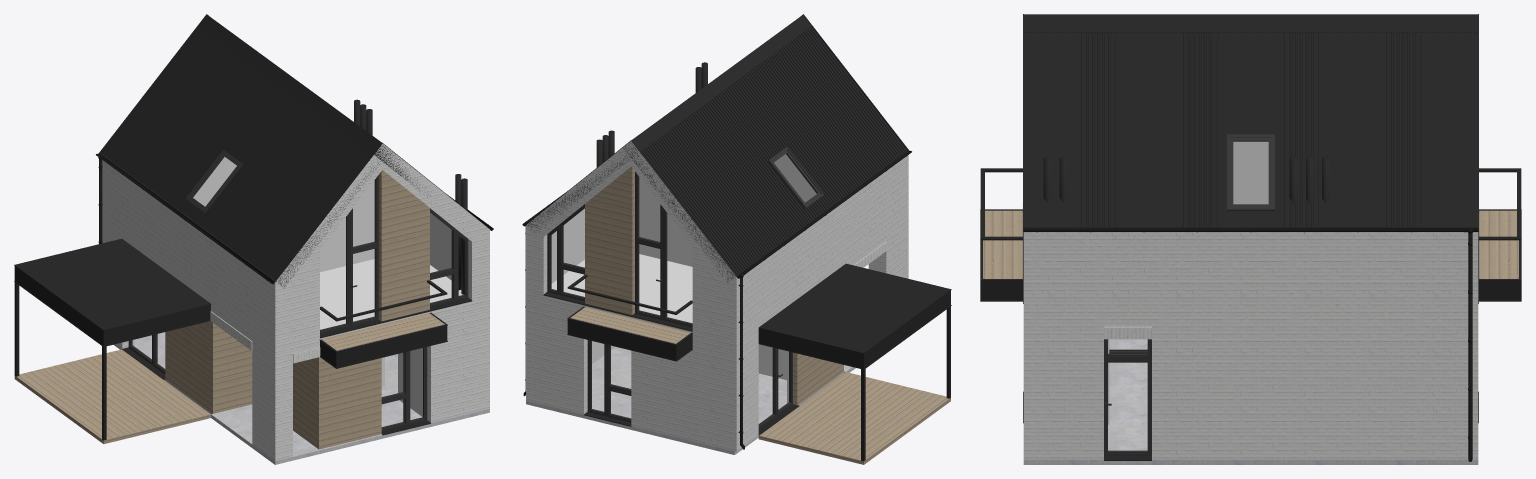
File: mats.glb
3 renders of one model, left to right at view 1: azimuth 30°, elevation 25°; view 2: azimuth 150°, elevation 25°; view 3: azimuth 270°, elevation 25°, orthographic. The views are drawn at different scales.
Parts seen in each view (by area): view 1: G-__556320, G-Difference, G-__555672, G-__555717, G-__555564, G-__556023, G-__556410, G-__555681, G-__555699, G-__556293, G-__555591, G-__555735 (+11 smaller); view 2: G-__556320, G-Difference, G-__555672, G-__555717, G-__555564, G-__556023, G-__556365, G-__555699, G-__556293, G-__555591, G-__555681, G-OuterShell.010 (+13 smaller); view 3: G-__556293, G-Difference, G-__555672, G-__556023, G-__556320, G-__556365, G-__556410, G-OuterShell.010, G-__555735, G-__555906, G-__556608, G-__556302 (+7 smaller).
Part boxes in pixels (x1,y1,x2,y2): G-__556320: [100, 26, 380, 286]; G-Difference: [102, 143, 489, 367]; G-__555672: [102, 241, 489, 449]; G-__555717: [14, 238, 211, 346]; G-__555564: [14, 349, 210, 443]; G-__556023: [113, 332, 489, 464]; G-__556410: [320, 312, 447, 367]; G-__555681: [252, 351, 292, 461]; G-__555699: [320, 259, 463, 329]; G-__556293: [198, 18, 430, 196]; G-__555591: [200, 162, 374, 272]; G-__555735: [354, 99, 467, 294]; G-__556320: [623, 19, 907, 282]; G-Difference: [526, 141, 908, 359]; G-__555672: [526, 309, 843, 451]; G-__555717: [758, 263, 951, 369]; G-__555564: [758, 372, 950, 464]; G-__556023: [526, 347, 855, 454]; G-__556365: [567, 306, 692, 360]; G-__555699: [551, 254, 692, 323]; G-__556293: [526, 18, 811, 232]; G-__555591: [639, 159, 809, 266]; G-__555681: [868, 234, 908, 278]; G-OuterShell.010: [632, 15, 805, 143]; G-__556293: [1024, 19, 1477, 227]; G-Difference: [1023, 154, 1478, 338]; G-__555672: [1023, 339, 1478, 459]; G-__556023: [1023, 339, 1478, 464]; G-__556320: [1024, 19, 1477, 32]; G-__556365: [1479, 209, 1521, 300]; G-__556410: [980, 209, 1022, 300]; G-OuterShell.010: [1024, 14, 1477, 19]; G-__555735: [1043, 155, 1329, 202]; G-__555906: [1023, 228, 1478, 231]; G-__556608: [1104, 359, 1151, 455]; G-__556302: [1023, 226, 1478, 228].
Size of what is drawn, in the model's own units: 9.14 by 7.9 by 10.12.
8 materials, 3 textured.
